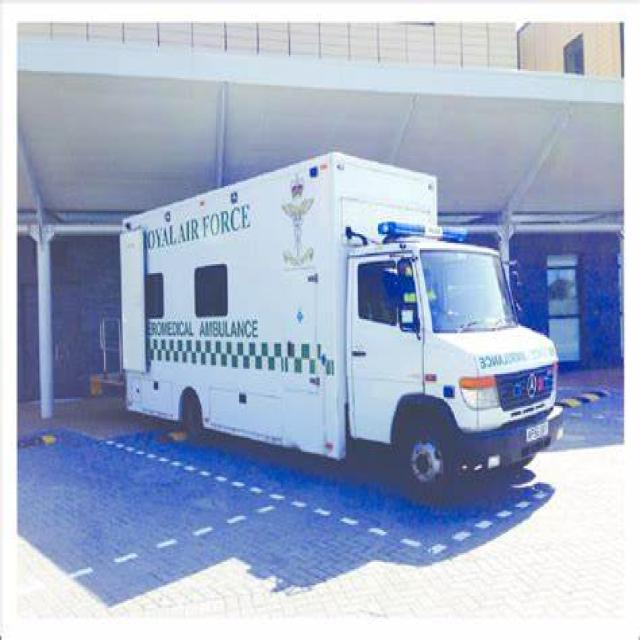ambulance: (375, 210, 484, 244)
